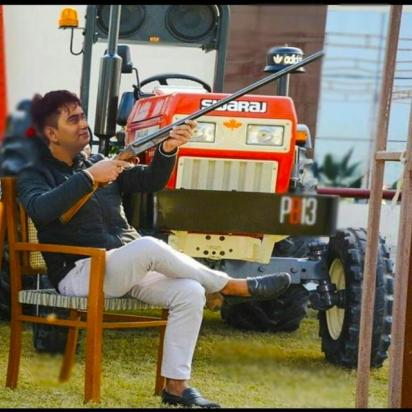Gun: (55, 48, 329, 230)
